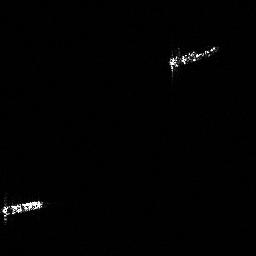ship: (165, 43, 218, 73), (1, 197, 48, 223)
